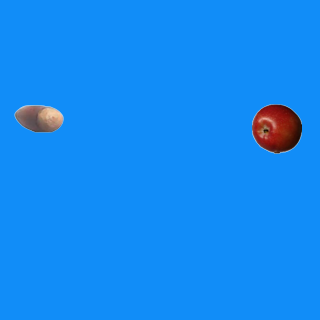Apple Braeburn: (251, 103, 301, 153)
Hazelnut: (13, 93, 63, 143)
